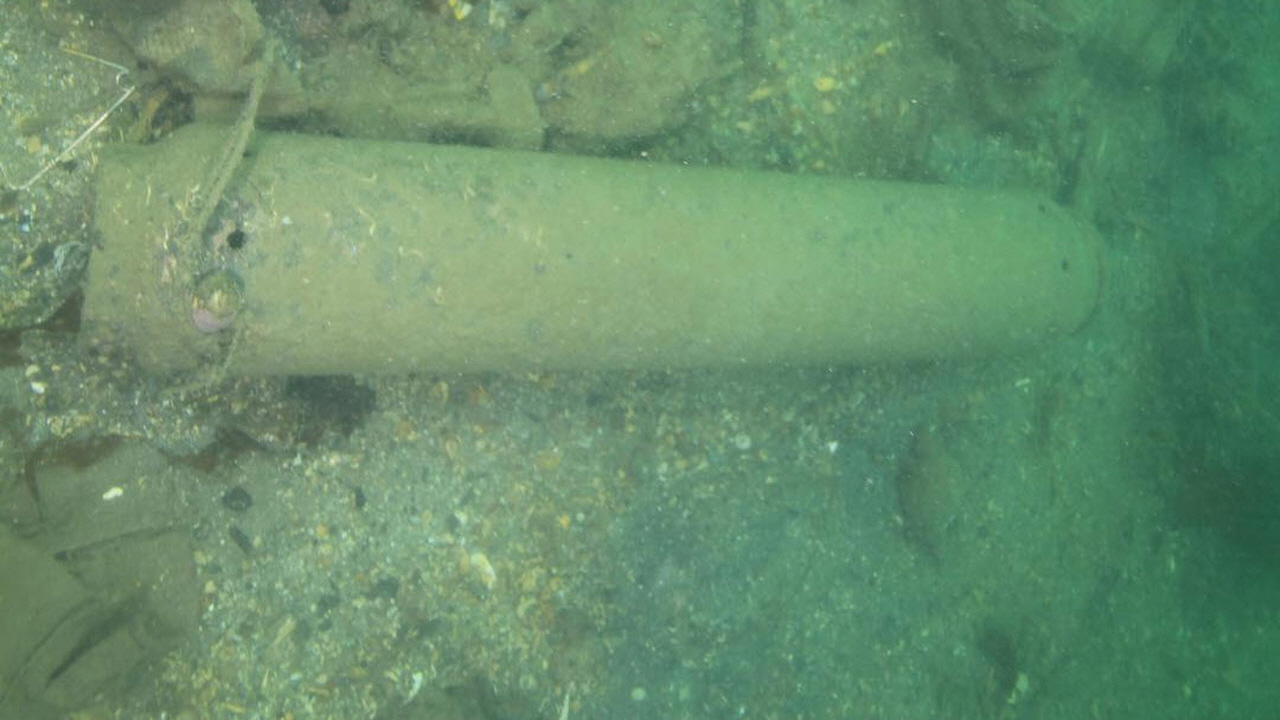bundle of ropes: (124, 31, 286, 257)
eel fish trap: (79, 118, 1101, 372)
